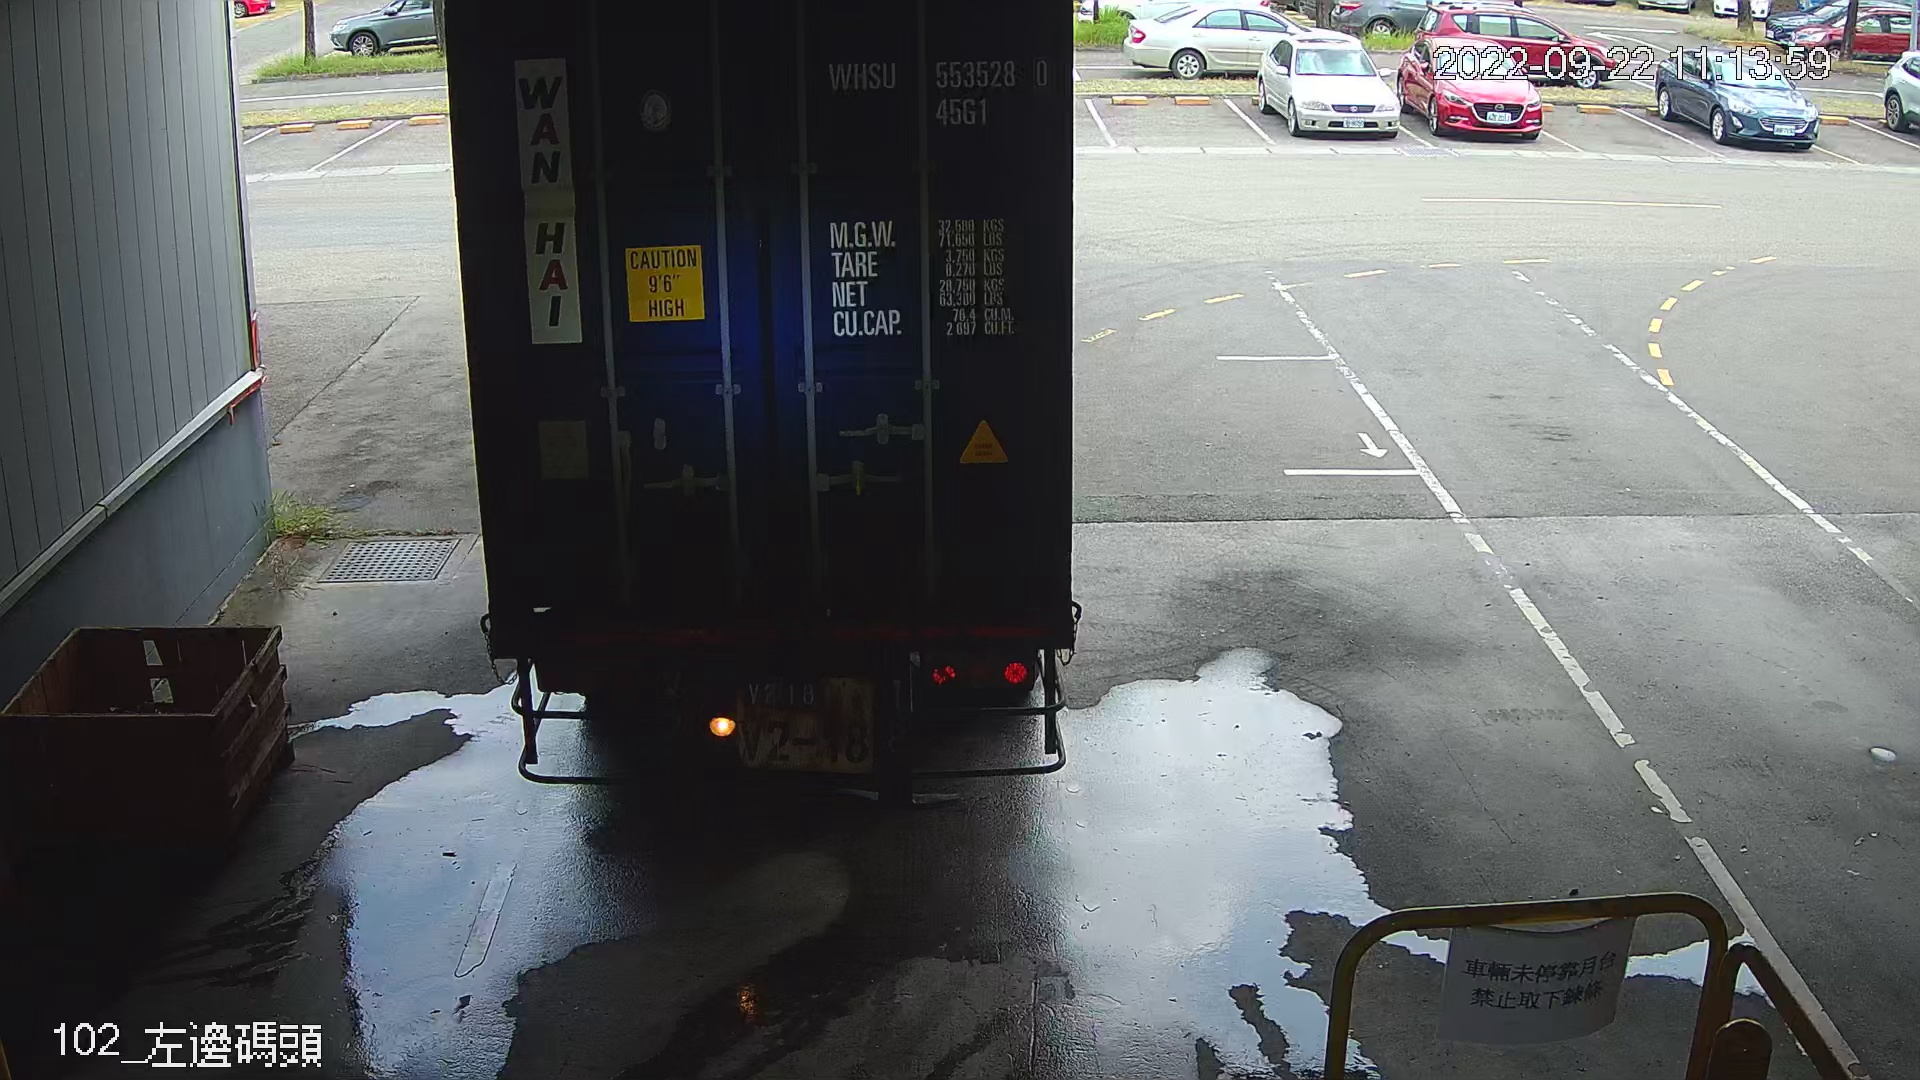container: (816, 51, 1060, 135)
